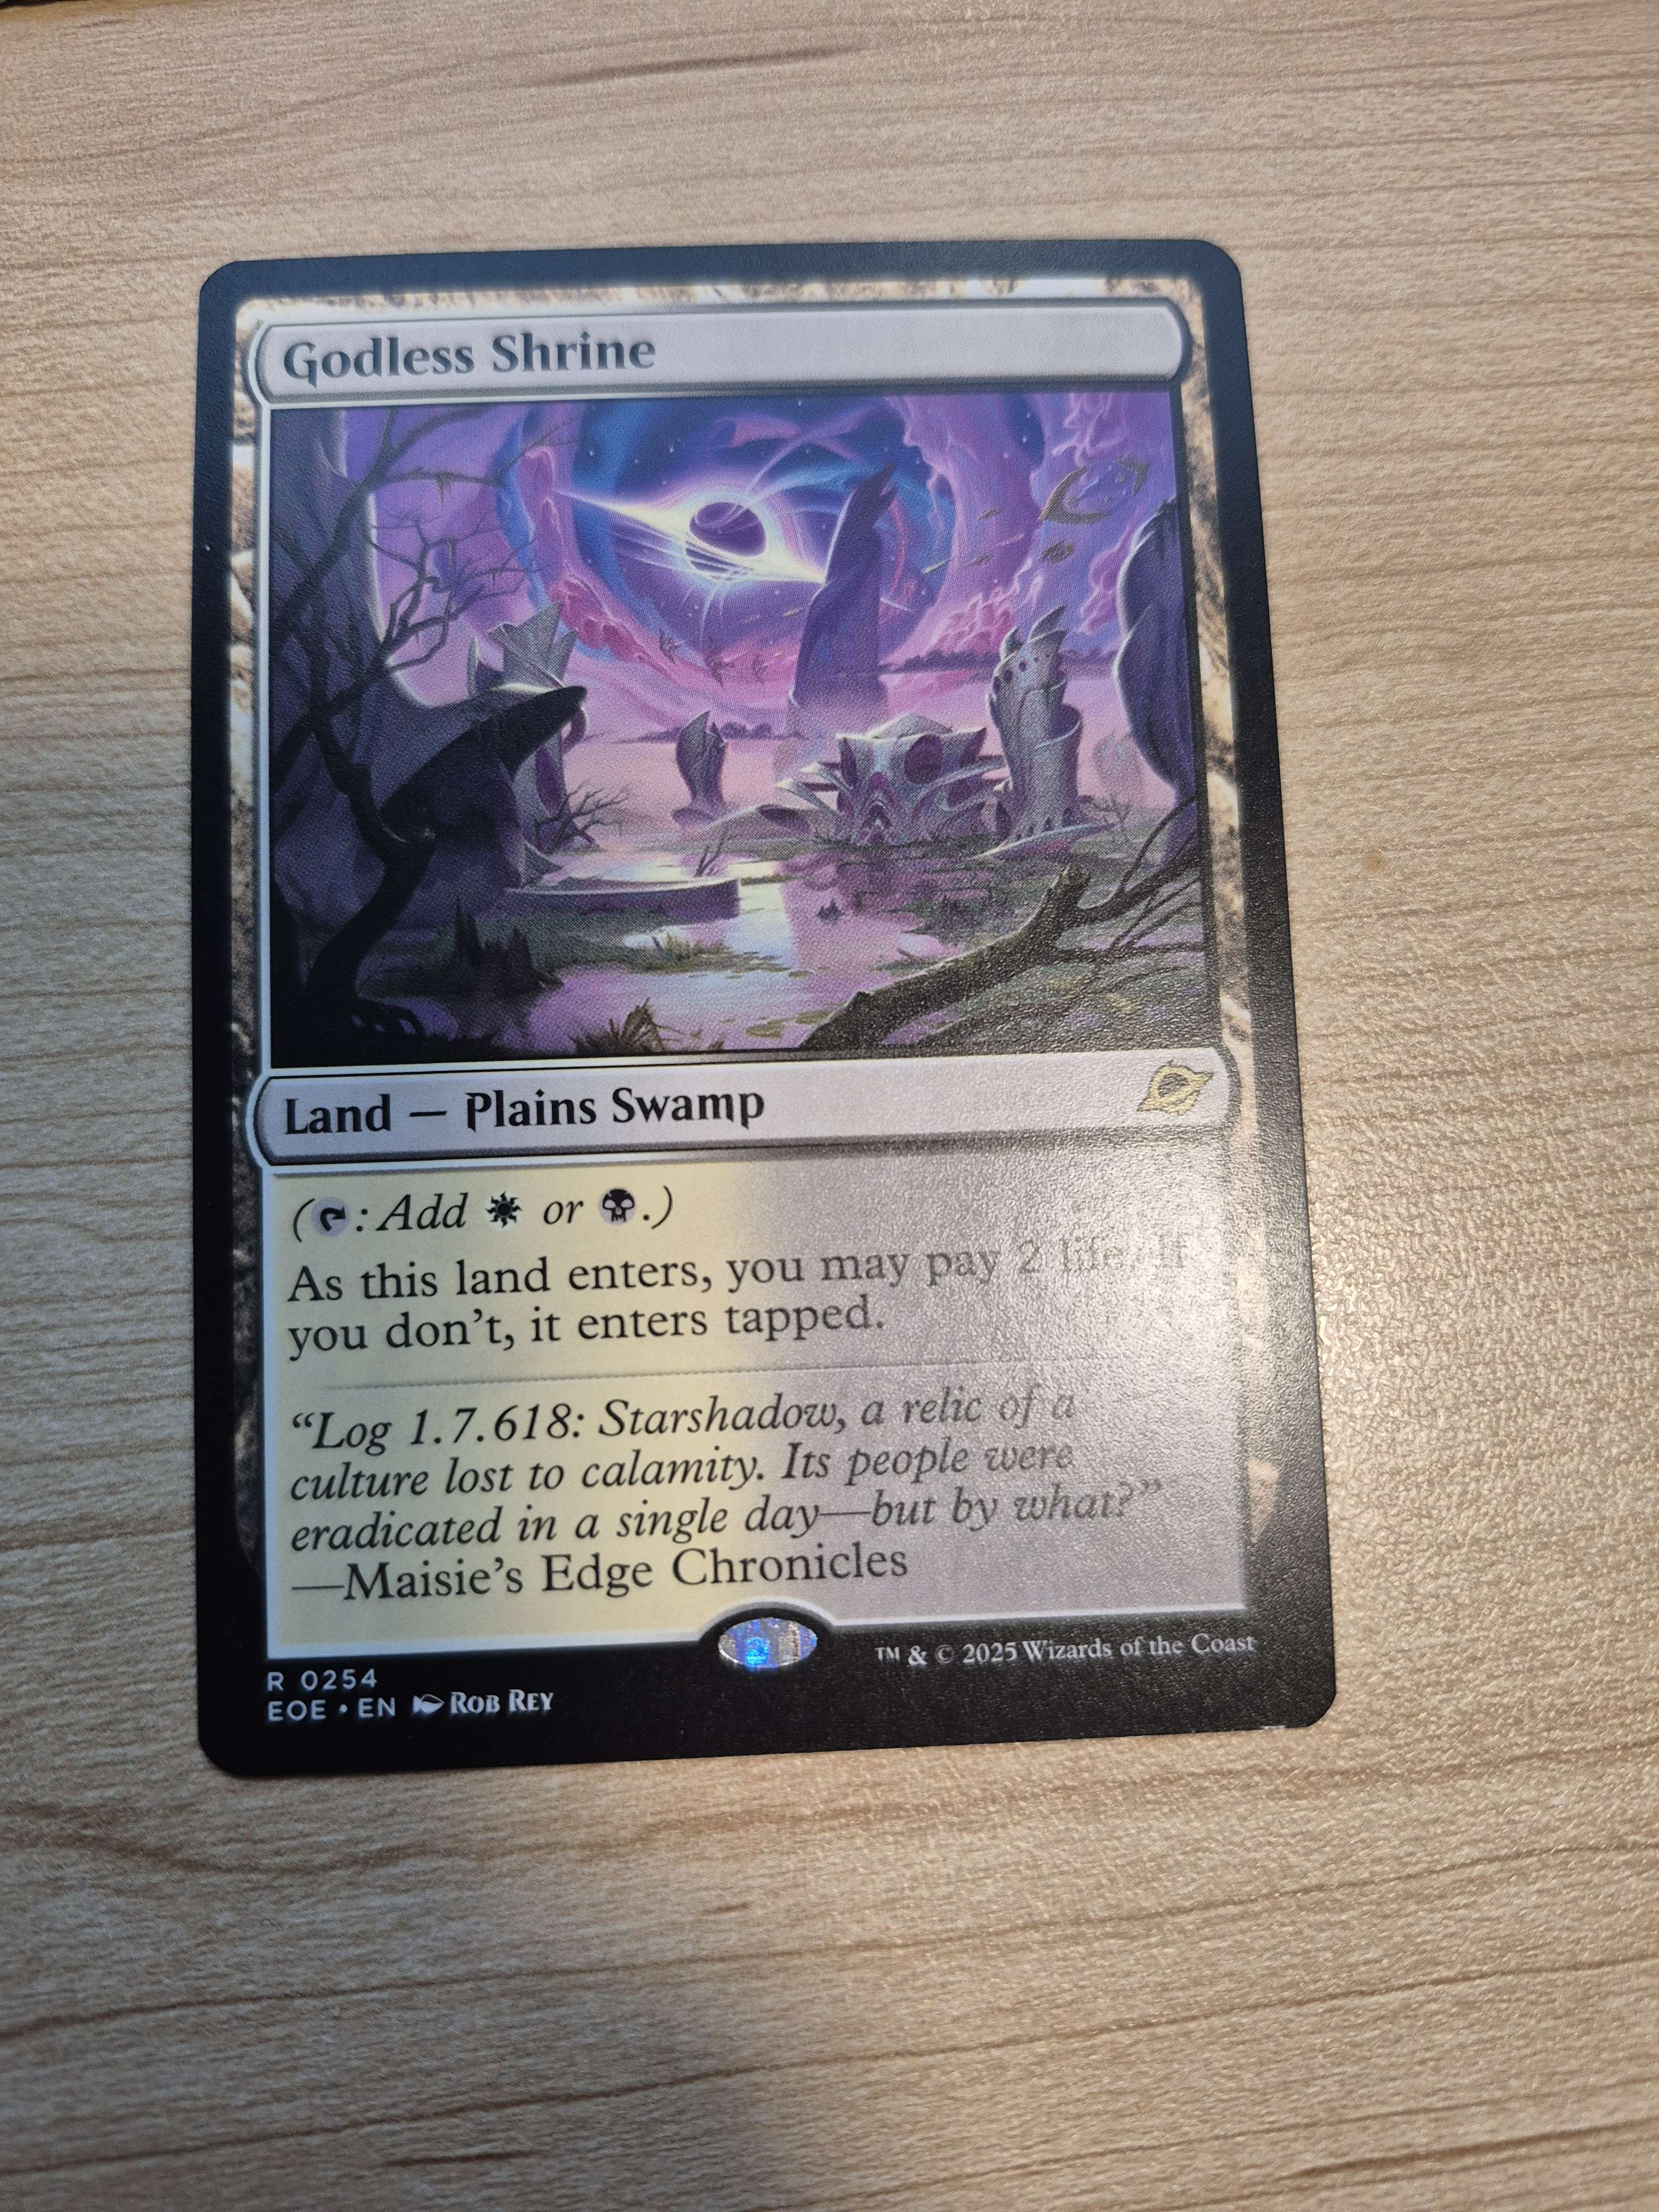mtg_card: (188, 265, 1316, 1738)
